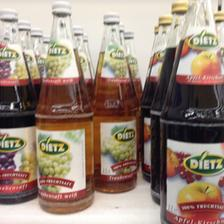Saft: (157, 0, 223, 222), (34, 1, 94, 213), (89, 13, 137, 196), (0, 7, 36, 204)
